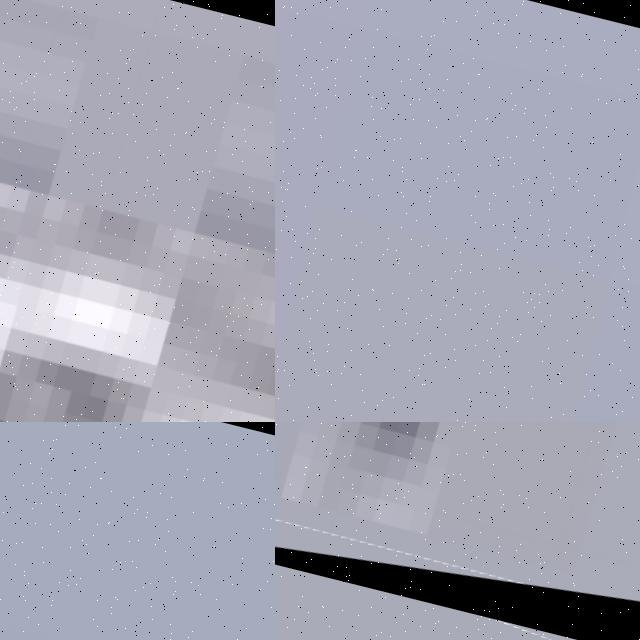drone: (0, 0, 275, 422), (275, 422, 640, 640)
